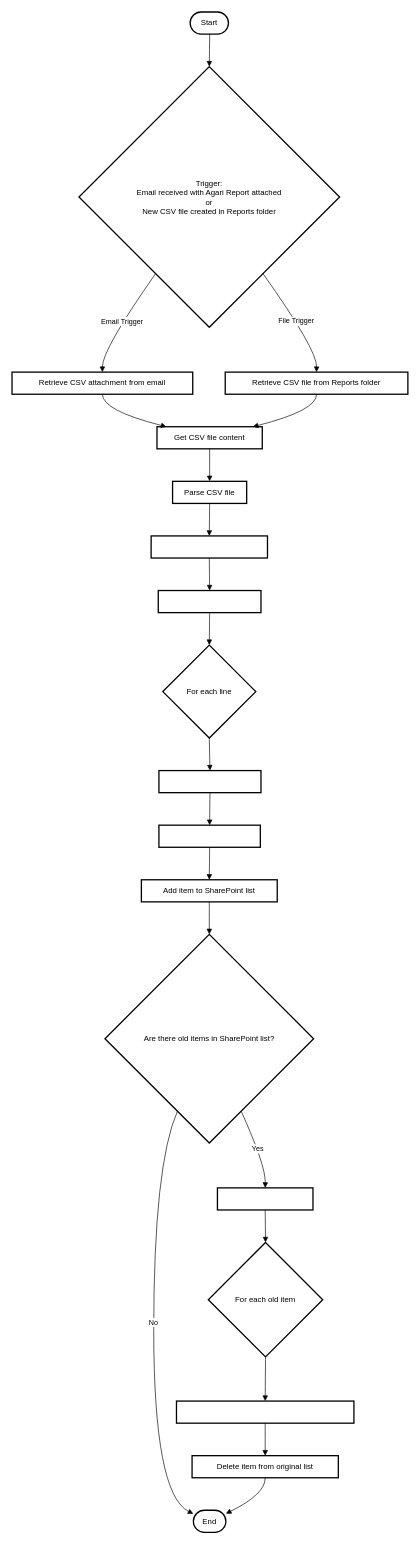
Some shapes in this 419 by 1544 pixel diagram are drawn without their labels. The shapes that lost their labels are listed below. From the top down, each one's box as (x1, y1, x2, y2) in pixels, then its label:
(150, 535, 268, 558): Split content into lines
(157, 590, 261, 613): Remove header row
(158, 770, 261, 793): Split line into fields
(158, 824, 261, 848): Create JSON object
(216, 1187, 313, 1210): Retrieve old items
(176, 1400, 354, 1424): Copy item to Archive SharePoint list
